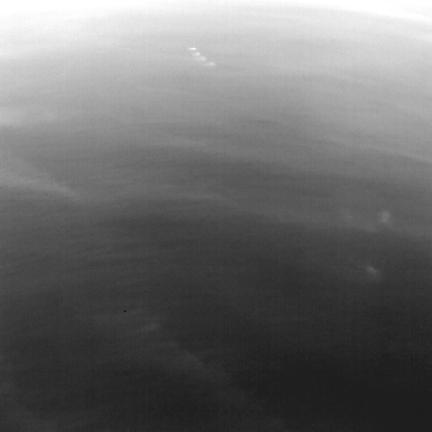flukeprints: (194, 52, 206, 61), (205, 60, 215, 66), (194, 51, 200, 57), (188, 46, 196, 50)
